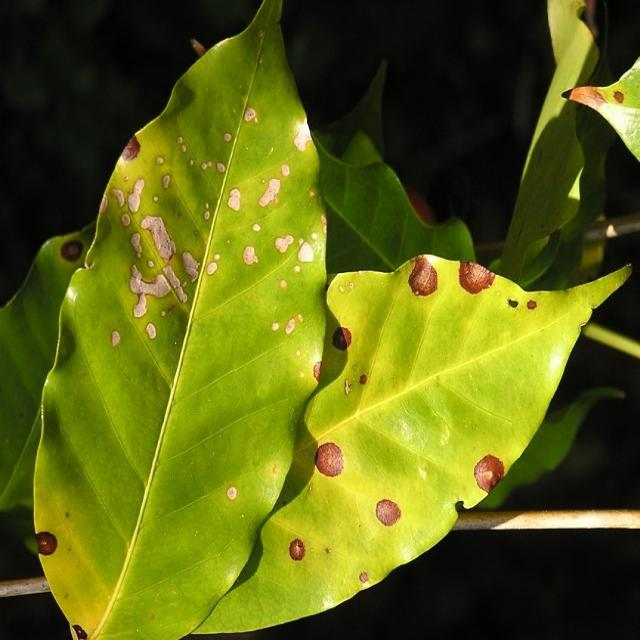Enfermedad-Mancha-de-hierro: (31, 0, 632, 640)
